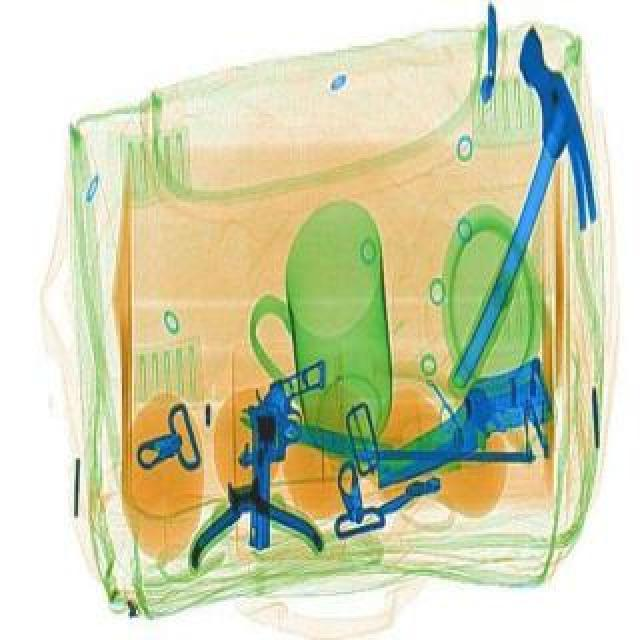gun: (246, 354, 328, 546)
